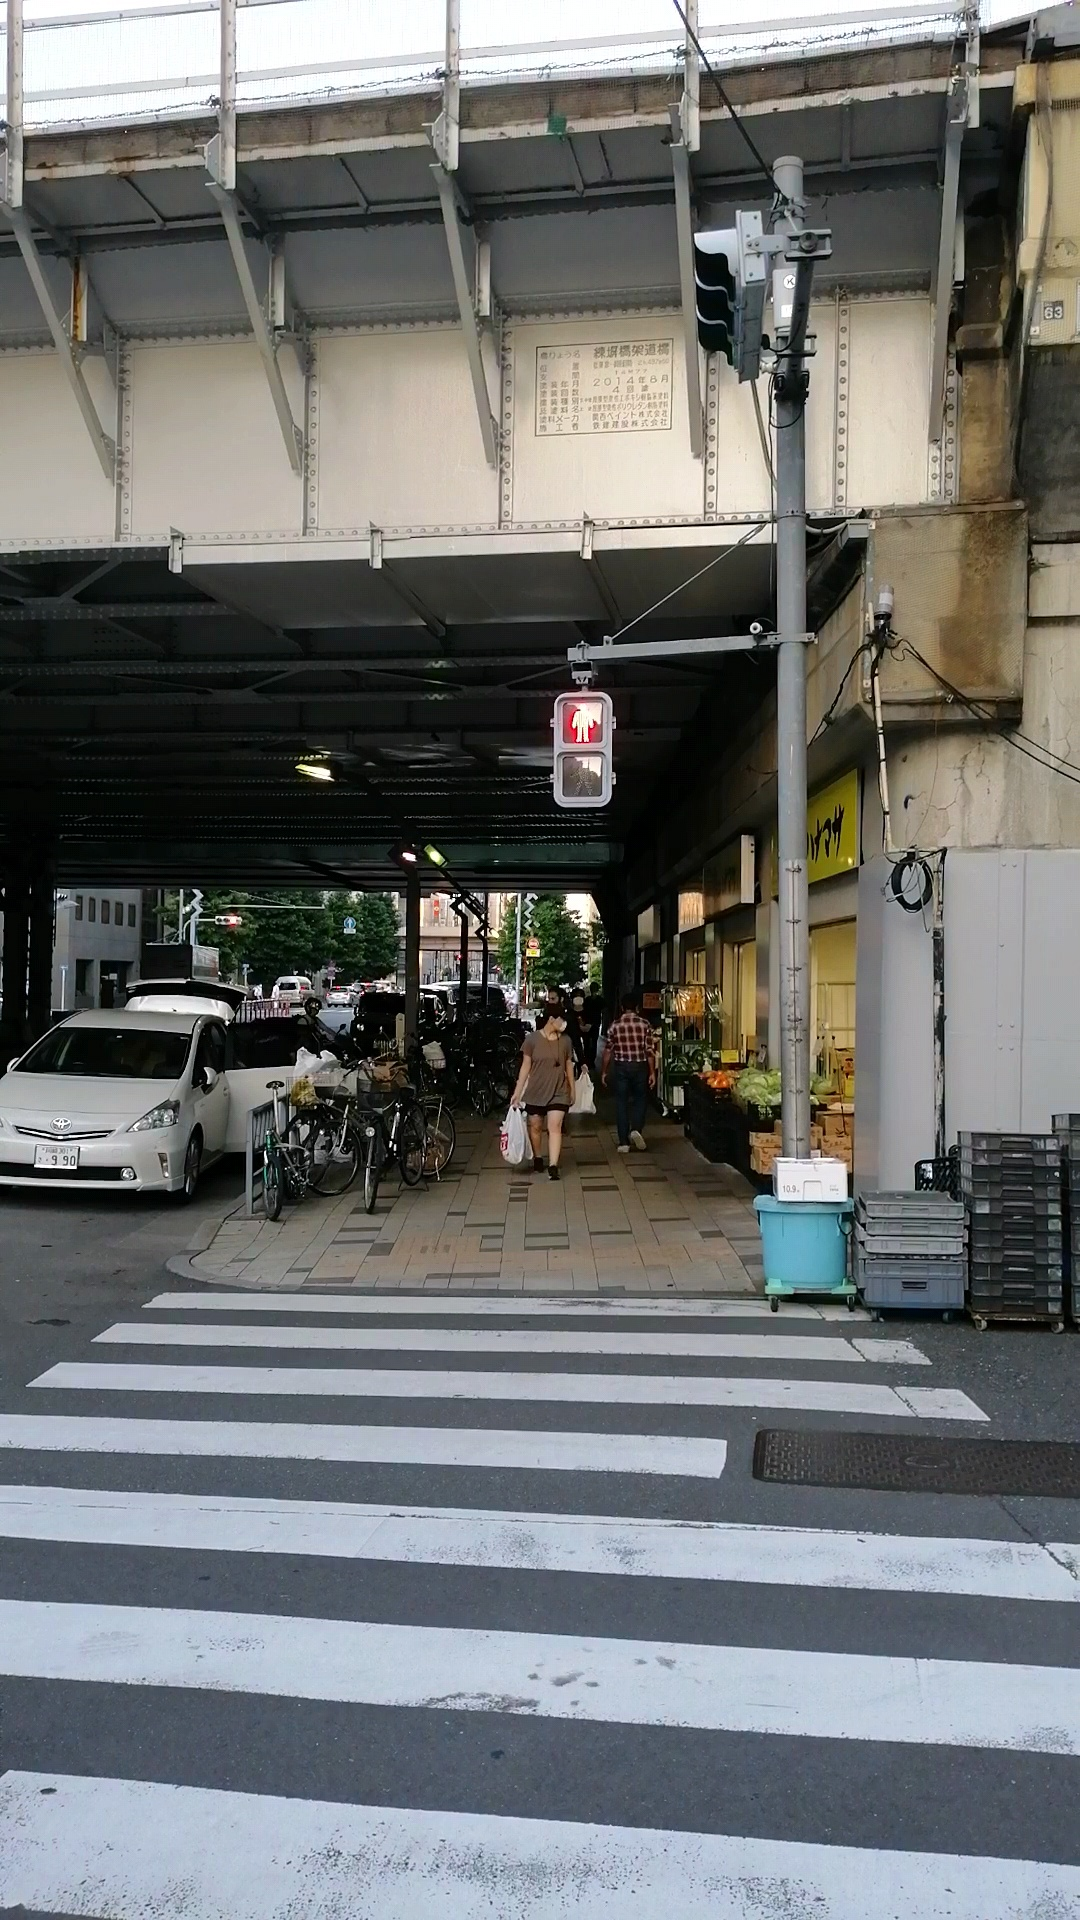red: (551, 690, 611, 808)
